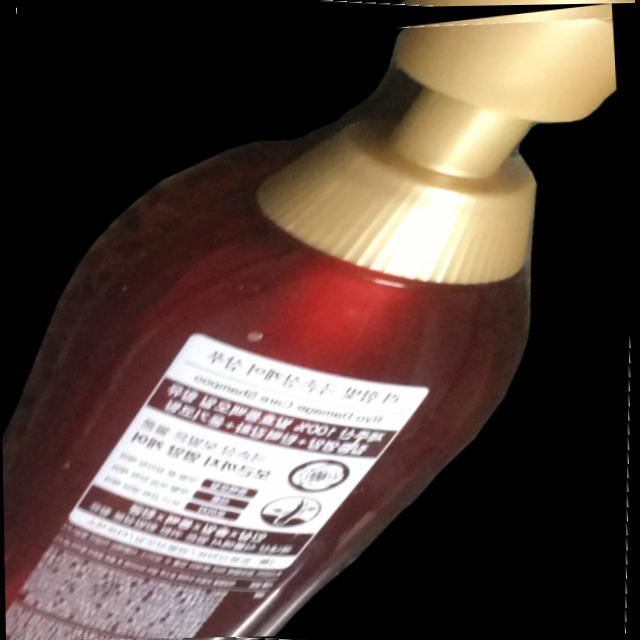plastic: (2, 17, 620, 640)
